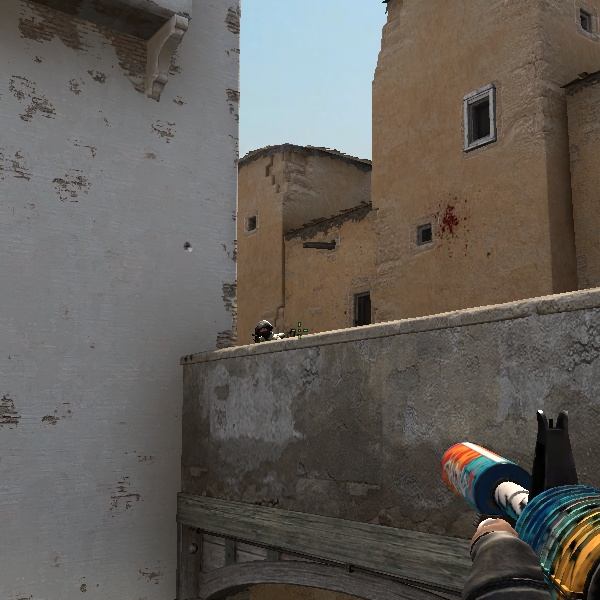ct_body: (242, 320, 286, 346)
